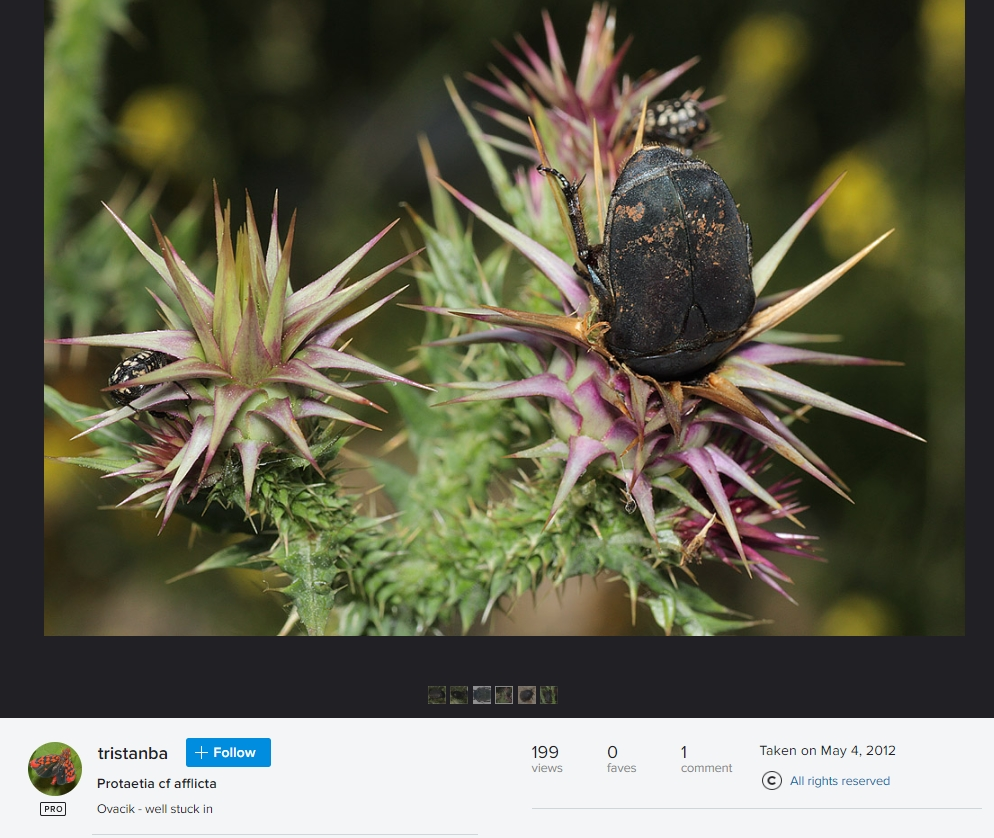Protaetia_afflicta: (544, 135, 761, 375)
